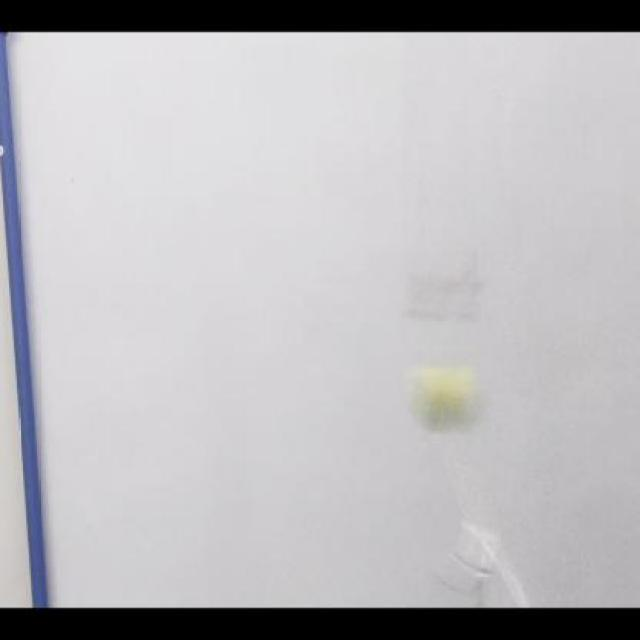baseball: (410, 364, 481, 430)
